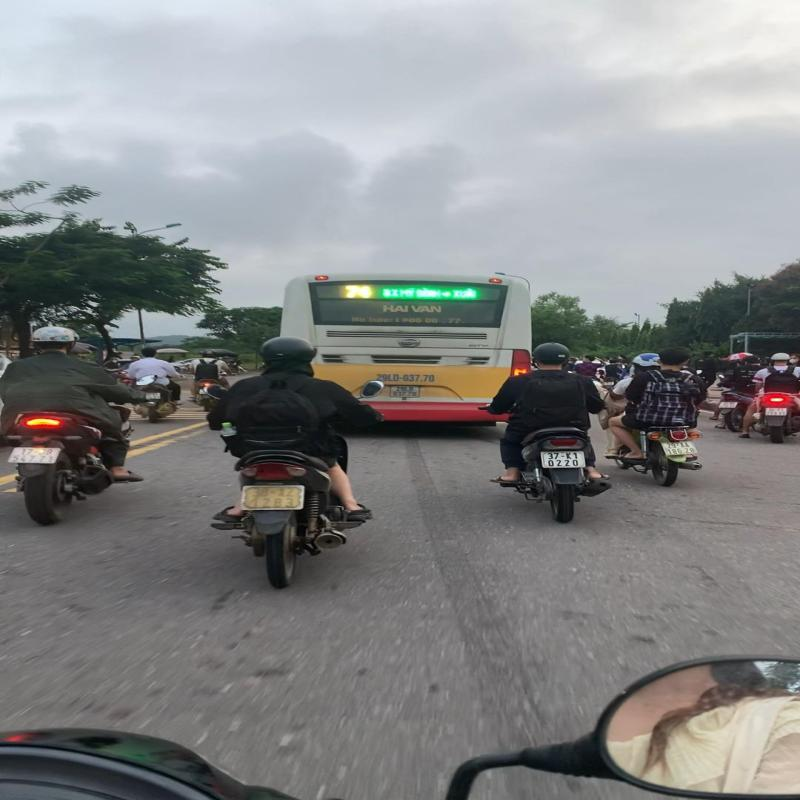helmet: (254, 336, 320, 362), (532, 342, 572, 365), (631, 351, 662, 366)
licenseplate: (238, 483, 307, 512), (537, 450, 590, 468), (659, 440, 700, 456)
motorcyclist: (199, 334, 388, 590), (475, 340, 615, 524), (602, 344, 708, 488)
nohelmet: (656, 346, 693, 367)
